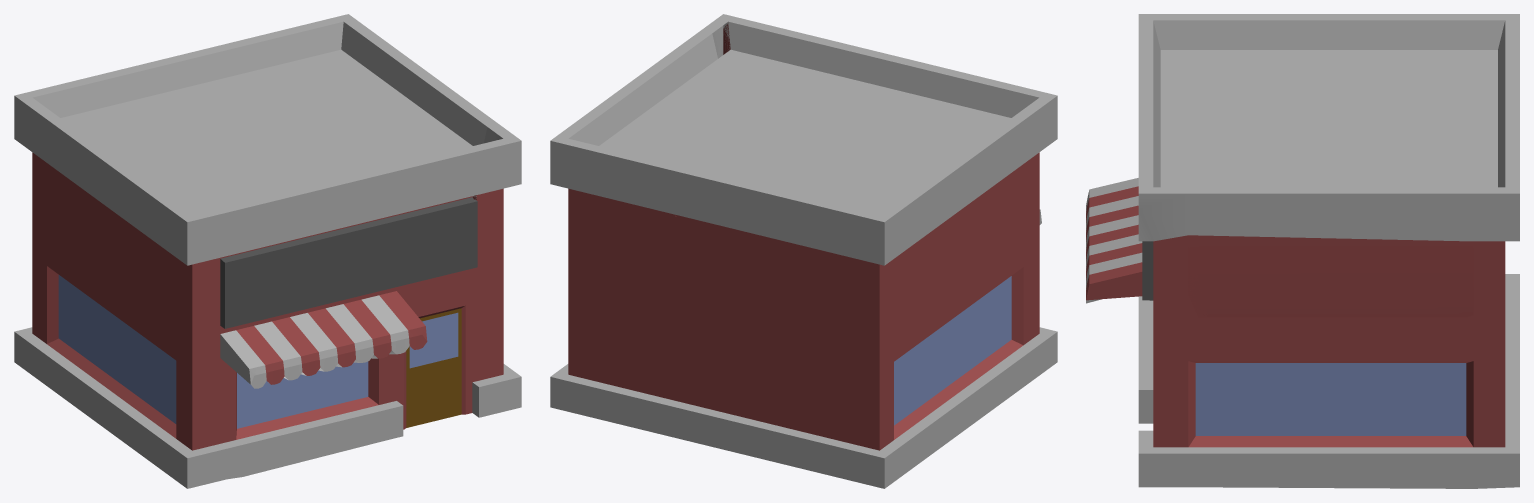
The model's file is Final Store Shatter.fbx.
3 views of the same model, side by side, from view 1: azimuth 30°, elevation 25°; view 2: azimuth 150°, elevation 25°; view 3: azimuth 270°, elevation 25° (orthographic). The views are drawn at different scales.
Visible parts, largest first — view 1: polySurface7, polySurface6, polySurface5, polySurface9; view 2: polySurface9, polySurface5, polySurface7, polySurface6, polySurface10; view 3: polySurface5, polySurface10, polySurface6, polySurface7, polySurface9.
Boxes of the visible parts, <box> form: polySurface7: <box>52,121,521,488</box>; polySurface6: <box>120,143,521,349</box>; polySurface5: <box>137,14,521,199</box>; polySurface9: <box>14,65,182,406</box>; polySurface9: <box>602,180,946,488</box>; polySurface5: <box>550,14,897,245</box>; polySurface7: <box>836,136,1057,443</box>; polySurface6: <box>723,16,1057,166</box>; polySurface10: <box>550,237,711,446</box>; polySurface5: <box>1138,76,1519,377</box>; polySurface10: <box>1272,306,1519,488</box>; polySurface6: <box>1086,14,1332,412</box>; polySurface7: <box>1086,14,1435,487</box>; polySurface9: <box>1397,14,1519,377</box>.
Size of the model in its own units: 580 by 445 by 592.
